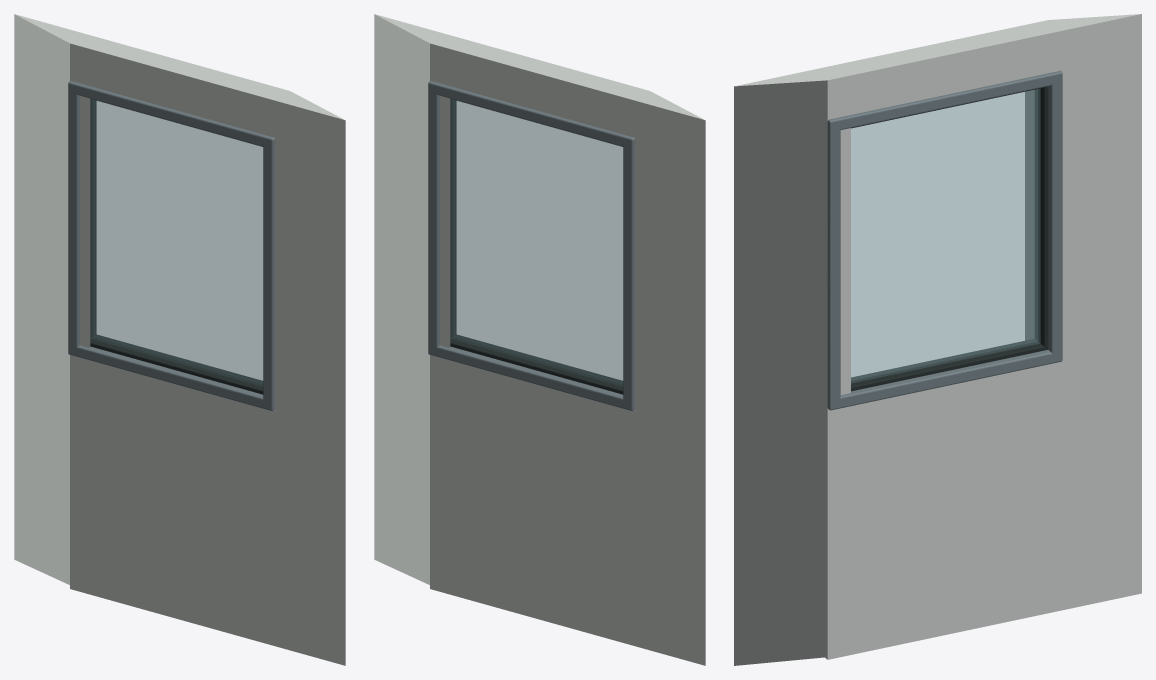
Rendered from cabin_window_26_starboard.glb.
3 views of the same model, side by side, from view 1: azimuth 30°, elevation 25°; view 2: azimuth 210°, elevation 25°; view 3: azimuth 270°, elevation 25° (orthographic). The views are drawn at different scales.
Visible parts, largest first — view 1: Wall below window.002, Transparent glazing.002, Wall left jamb.002, Wall right jamb.002, Wall header.002, Window frame upright.005, Window frame upright.004, Window frame horizontal.004, Window frame horizontal.005, Rubber gasket horizontal.004, Rubber gasket upright.005; view 2: Wall below window.002, Transparent glazing.002, Wall right jamb.002, Wall left jamb.002, Wall header.002, Window frame upright.004, Window frame upright.005, Window frame horizontal.004, Window frame horizontal.005, Rubber gasket horizontal.004, Rubber gasket upright.004; view 3: Wall left jamb.002, Wall below window.002, Wall right jamb.002, Transparent glazing.002, Wall header.002, Window frame upright.005, Window frame upright.004, Rubber gasket upright.005, Window frame horizontal.004, Window frame horizontal.005, Rubber gasket horizontal.004.
Boxes of the visible parts, bbox=[...] form: Wall below window.002: bbox=[70, 355, 274, 645]; Transparent glazing.002: bbox=[90, 99, 263, 386]; Wall left jamb.002: bbox=[270, 85, 345, 665]; Wall right jamb.002: bbox=[14, 14, 90, 594]; Wall header.002: bbox=[70, 34, 286, 137]; Window frame upright.005: bbox=[68, 83, 96, 356]; Window frame upright.004: bbox=[263, 138, 274, 410]; Window frame horizontal.004: bbox=[68, 345, 273, 410]; Window frame horizontal.005: bbox=[68, 81, 274, 147]; Rubber gasket horizontal.004: bbox=[90, 334, 263, 394]; Rubber gasket upright.005: bbox=[90, 99, 96, 337]; Wall below window.002: bbox=[430, 355, 634, 645]; Transparent glazing.002: bbox=[450, 99, 623, 386]; Wall right jamb.002: bbox=[630, 85, 705, 665]; Wall left jamb.002: bbox=[374, 14, 450, 594]; Wall header.002: bbox=[430, 34, 646, 137]; Window frame upright.004: bbox=[428, 84, 456, 355]; Window frame upright.005: bbox=[623, 137, 634, 410]; Window frame horizontal.004: bbox=[428, 345, 632, 410]; Window frame horizontal.005: bbox=[428, 81, 634, 148]; Rubber gasket horizontal.004: bbox=[450, 334, 623, 394]; Rubber gasket upright.004: bbox=[450, 99, 456, 337]; Wall left jamb.002: bbox=[734, 69, 850, 665]; Wall below window.002: bbox=[825, 362, 1061, 659]; Wall right jamb.002: bbox=[1025, 14, 1141, 610]; Transparent glazing.002: bbox=[851, 89, 1040, 382]; Wall header.002: bbox=[815, 22, 1061, 119]; Window frame upright.005: bbox=[1048, 73, 1062, 362]; Window frame upright.004: bbox=[825, 120, 840, 410]; Rubber gasket upright.005: bbox=[1034, 86, 1048, 350]; Window frame horizontal.004: bbox=[829, 350, 1061, 409]; Window frame horizontal.005: bbox=[827, 71, 1062, 131]; Rubber gasket horizontal.004: bbox=[851, 338, 1046, 391].
Size of the model in its own units: 0.5894 by 2.2 by 1.4.
